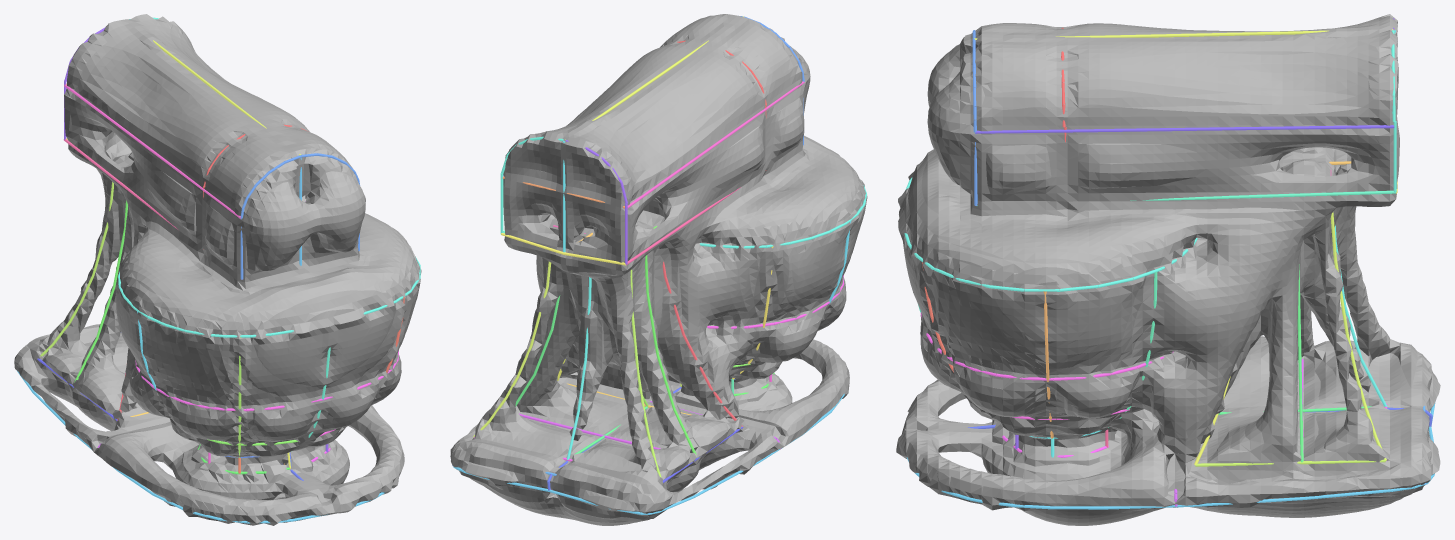
Rendered from t2f_blender.gltf.
3 renders of one model, left to right at view 1: azimuth 30°, elevation 25°; view 2: azimuth 150°, elevation 25°; view 3: azimuth 270°, elevation 25°, orthographic. The views are drawn at different scales.
Bounding box in the file's own units: 0.4703 × 0.6669 × 0.6876.
